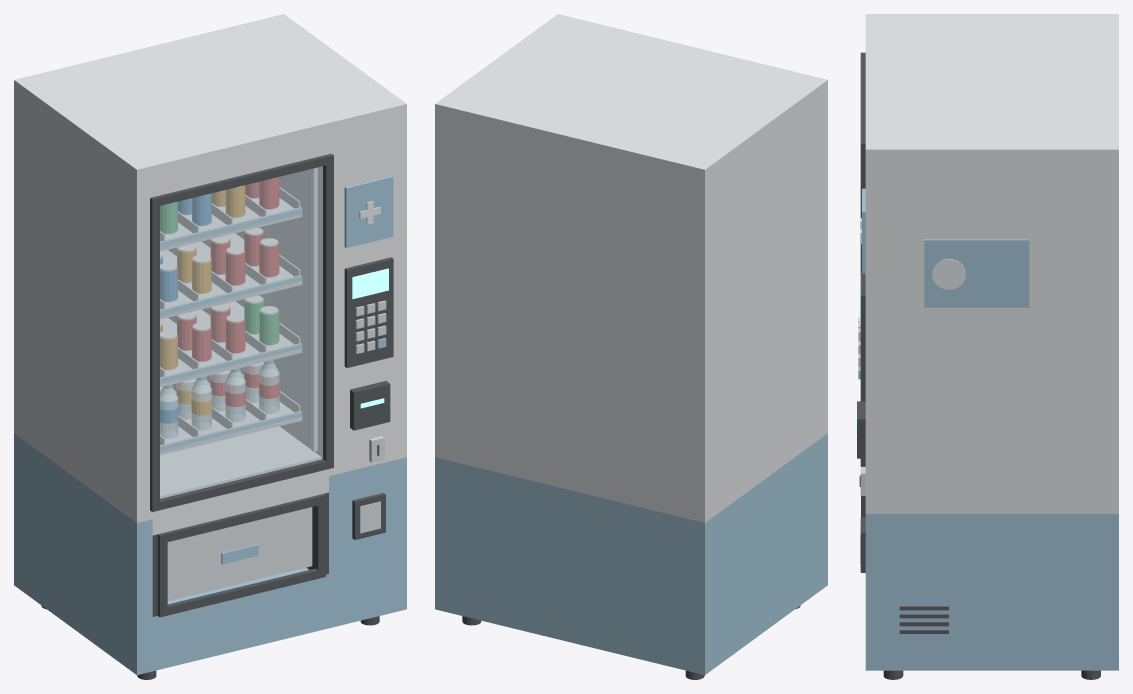
Rendered from vending_machine_v1.fbx.
3 views of the same model, side by side, from view 1: azimuth 30°, elevation 25°; view 2: azimuth 150°, elevation 25°; view 3: azimuth 270°, elevation 25° (orthographic). The views are drawn at different scales.
Parts seen in each view (by area): view 1: 01_VendingMachine_Intact_Mesh; view 2: 01_VendingMachine_Intact_Mesh; view 3: 01_VendingMachine_Intact_Mesh.
Part boxes in pixels (x1=…): 01_VendingMachine_Intact_Mesh: x1=14, y1=14, x2=406, y2=679; 01_VendingMachine_Intact_Mesh: x1=435, y1=14, x2=827, y2=679; 01_VendingMachine_Intact_Mesh: x1=856, y1=14, x2=1118, y2=679.
Size of the model in its own units: 105 by 192 by 85.1.
